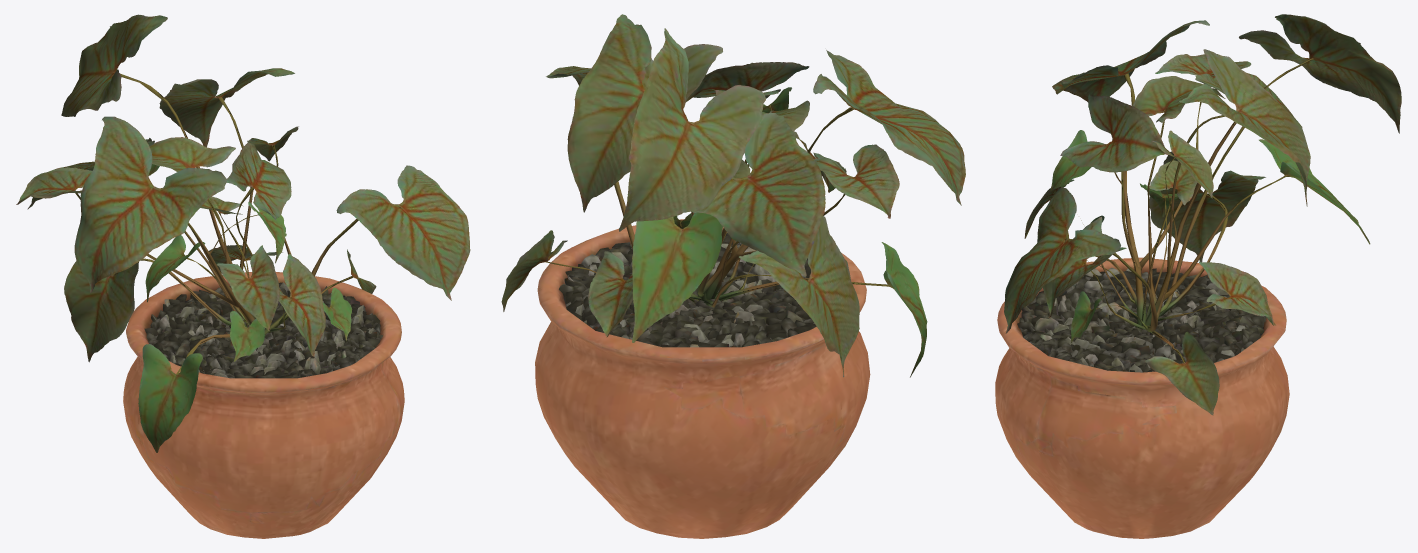
The model's file is plant.m.glb.
3 views of the same model, side by side, from view 1: azimuth 30°, elevation 25°; view 2: azimuth 150°, elevation 25°; view 3: azimuth 270°, elevation 25° (orthographic). The views are drawn at different scales.
Parts seen in each view (by area): view 1: leaves, pot, dirt; view 2: leaves, pot, dirt; view 3: leaves, pot, dirt.
Boxes of the visible parts, box(x1,y1,x2,y2) form: leaves: box(16, 14, 470, 452); pot: box(123, 271, 404, 538); dirt: box(144, 282, 382, 378); leaves: box(501, 14, 965, 377); pot: box(535, 219, 870, 538); dirt: box(559, 233, 816, 347); leaves: box(1004, 14, 1401, 415); pot: box(995, 257, 1289, 538); dirt: box(1017, 267, 1266, 372).
Bounding box in the file's own units: 0.7012 × 0.8412 × 0.6561.
Materials: 2 (2 with a texture image).
